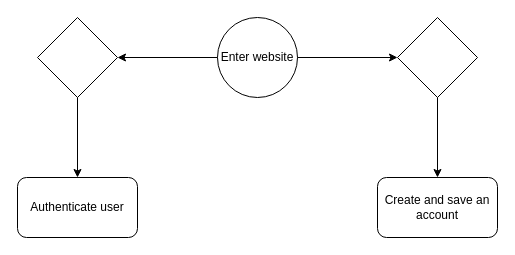
This 515x255 diagram has some shape labels left out. The shapes that lost their labels are listed below. From the top down, each one's centre as x and y in pixels, then its label:
At (77,57): "Log In?".
At (437,57): "Register?".
